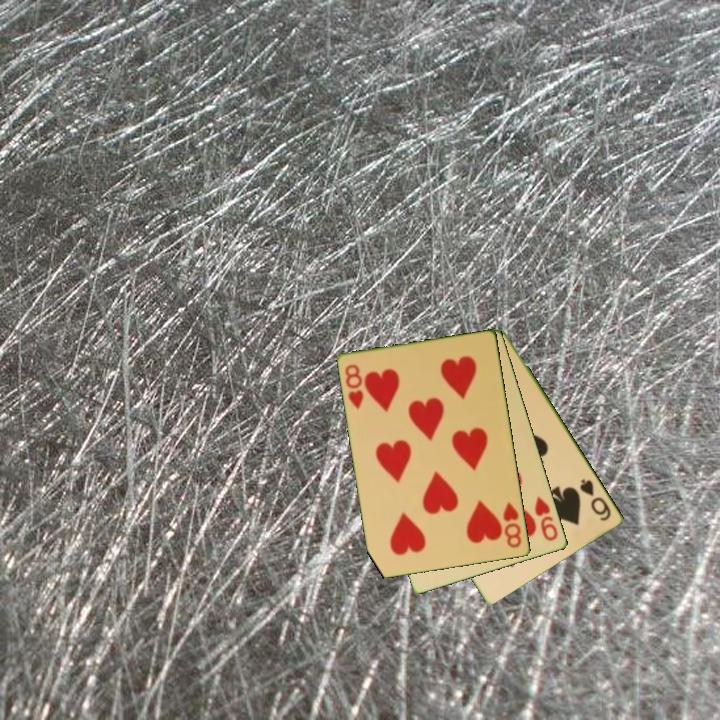6s: (577, 475, 614, 524)
8h: (500, 499, 525, 551), (342, 361, 367, 413)
9h: (532, 493, 561, 544)
